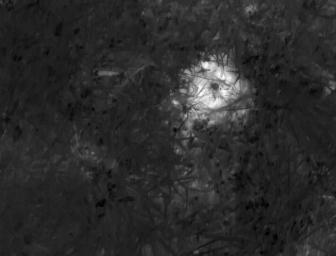landmine: (177, 57, 252, 125)
